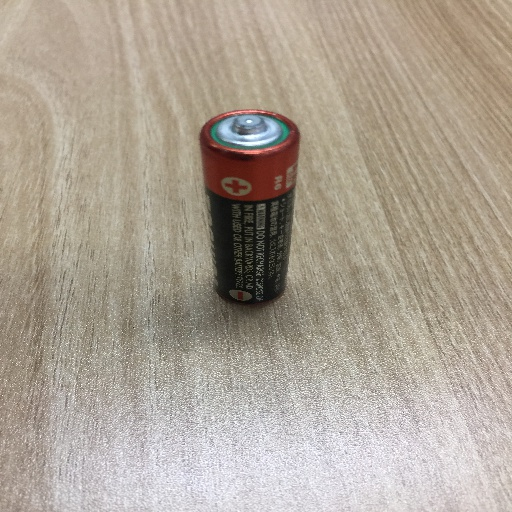Battery_0: (193, 96, 317, 323)
